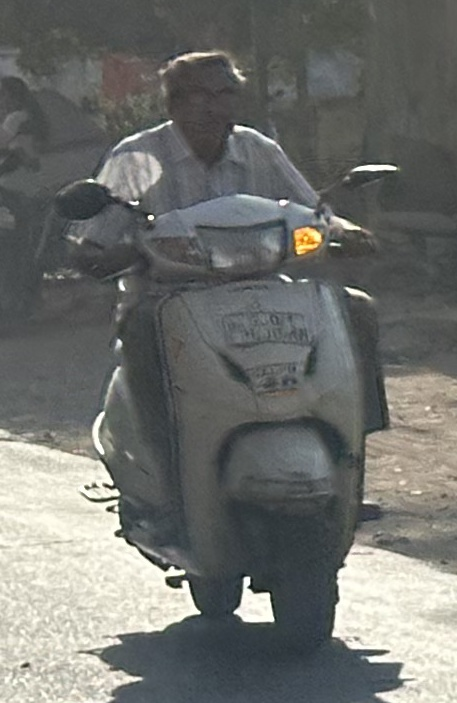BikeWithRider: (31, 40, 420, 660)
NoHelmet: (158, 47, 246, 153)
